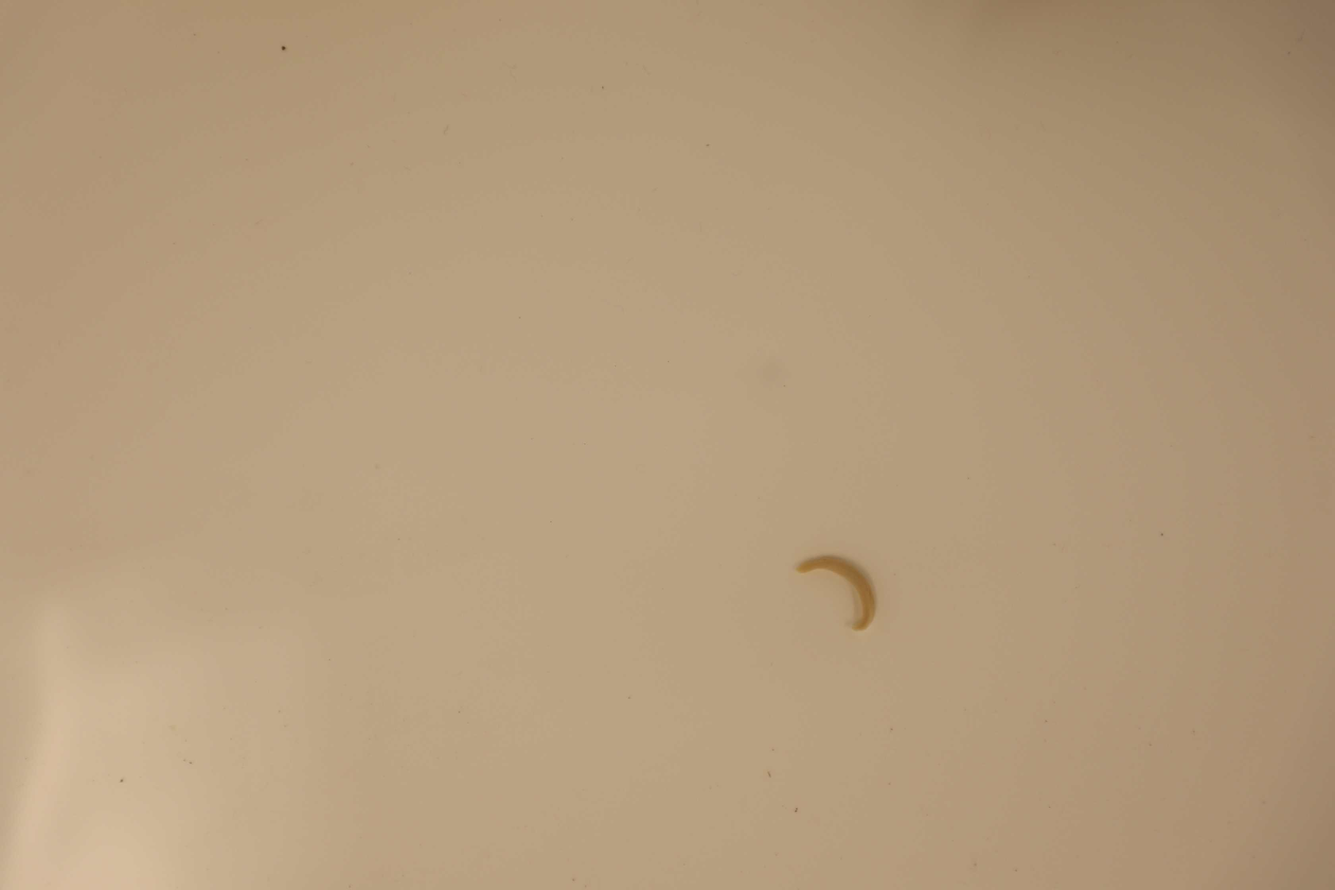Cadisfly: (801, 552, 875, 631)
